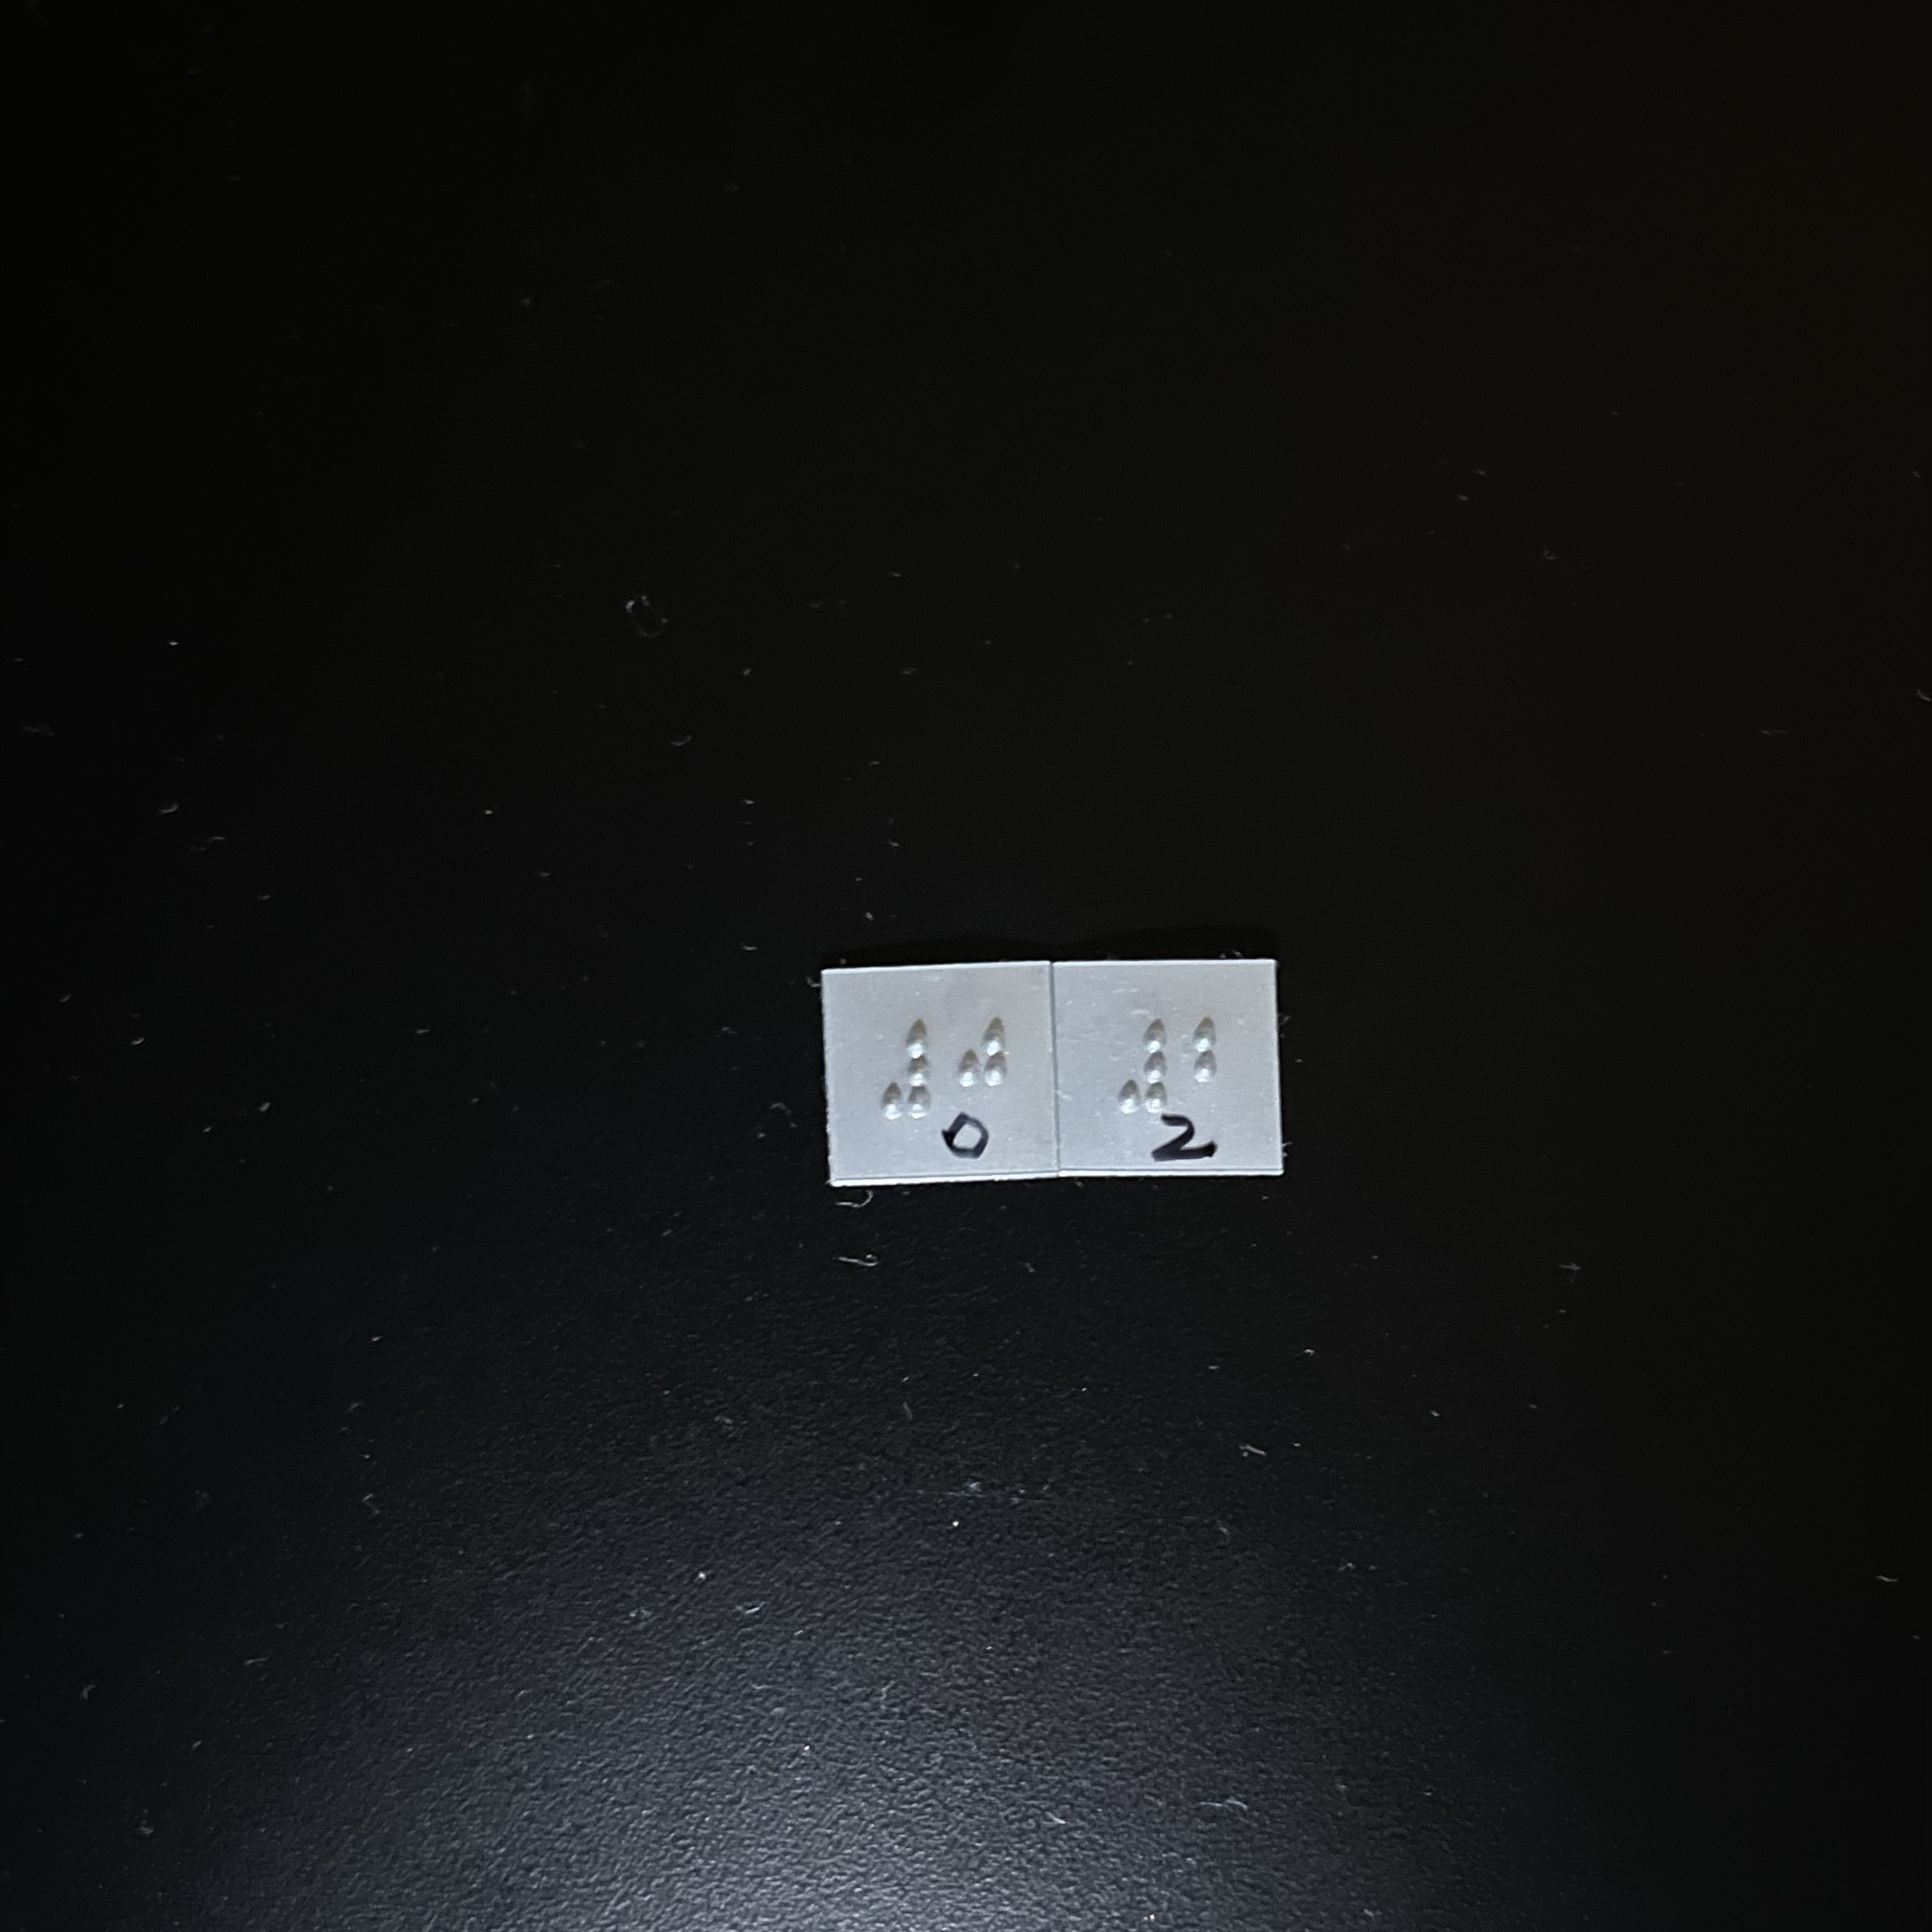#: (1108, 1009, 1177, 1121), (875, 1022, 941, 1132)
b: (1183, 1009, 1247, 1126)
j: (954, 1022, 1025, 1130)
